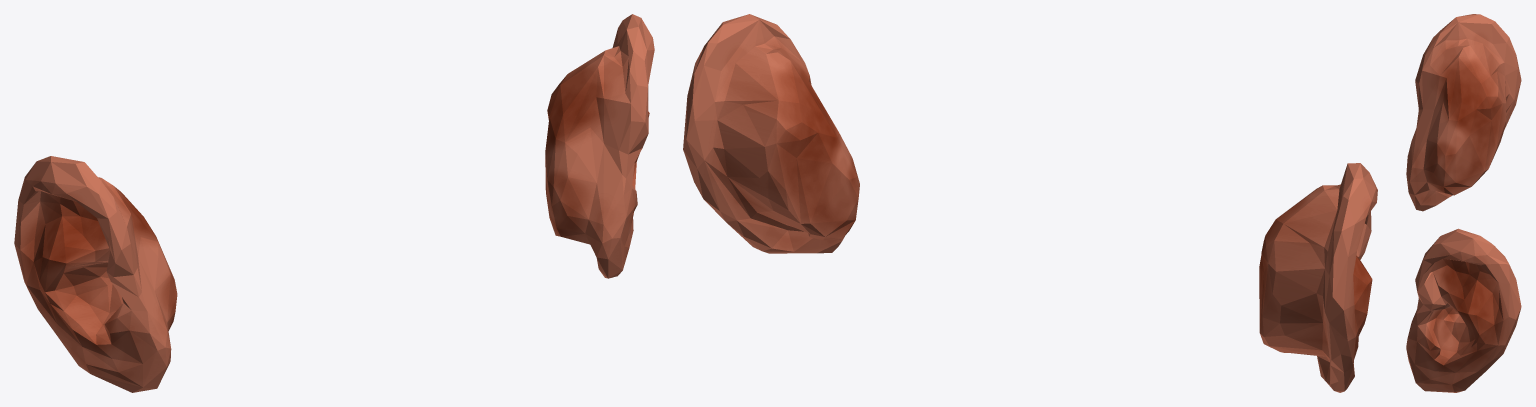
Rendered from Oreja.obj.
3 renders of one model, left to right at view 1: azimuth 30°, elevation 25°; view 2: azimuth 150°, elevation 25°; view 3: azimuth 270°, elevation 25°, orthographic. The views are drawn at different scales.
Visible parts, largest first — view 1: Musculos_Cabeza_1:Oreja:Oreja; view 2: Musculos_Cabeza_1:Oreja:Oreja; view 3: Musculos_Cabeza_1:Oreja:Oreja.
Part boxes in pixels (left/top/right/bottom): Musculos_Cabeza_1:Oreja:Oreja: left=14, top=14, right=654, bottom=392; Musculos_Cabeza_1:Oreja:Oreja: left=683, top=14, right=1377, bottom=392; Musculos_Cabeza_1:Oreja:Oreja: left=1406, top=14, right=1521, bottom=392.
Bounding box in the file's own units: 0.753 × 0.2639 × 0.1568.
1 material, 1 textured.
